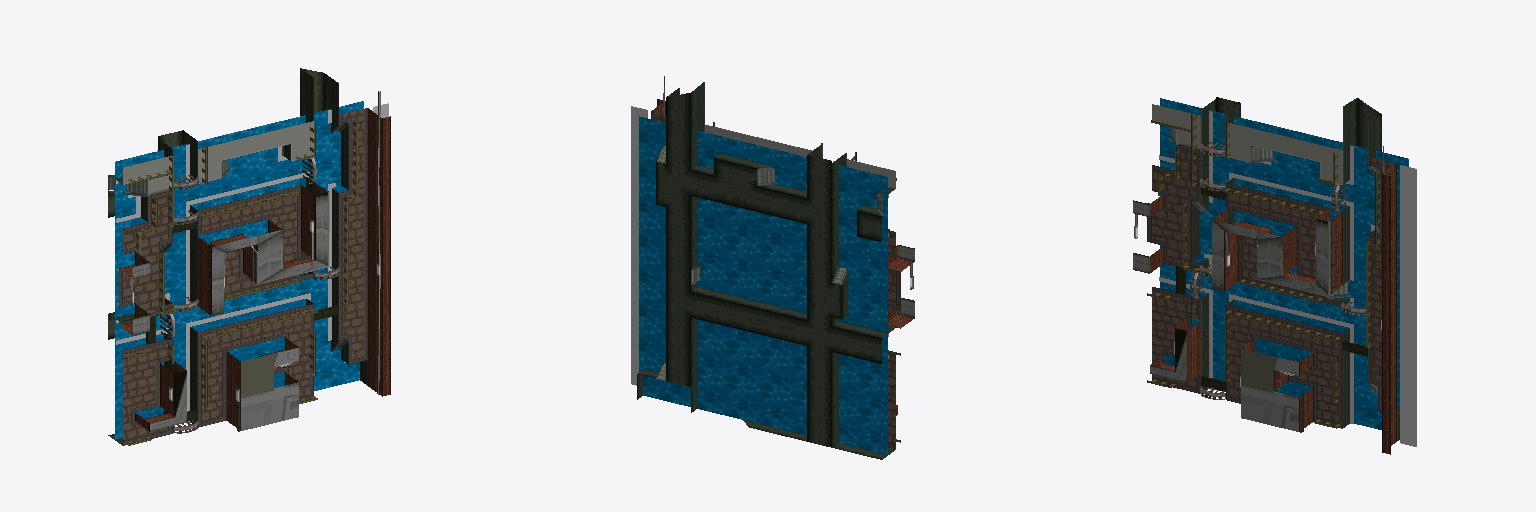
3 renders of one model, left to right at view 1: azimuth 30°, elevation 25°; view 2: azimuth 150°, elevation 25°; view 3: azimuth 330°, elevation 25°, orthographic.
Visible parts, largest first — view 1: map; view 2: map; view 3: map.
Boxes of the visible parts, <box> form: map: <box>108,68,390,445</box>; map: <box>631,76,914,459</box>; map: <box>1133,97,1416,454</box>.
Size of the model in its own units: 32.51 by 37.25 by 7.
30 materials, 27 textured.